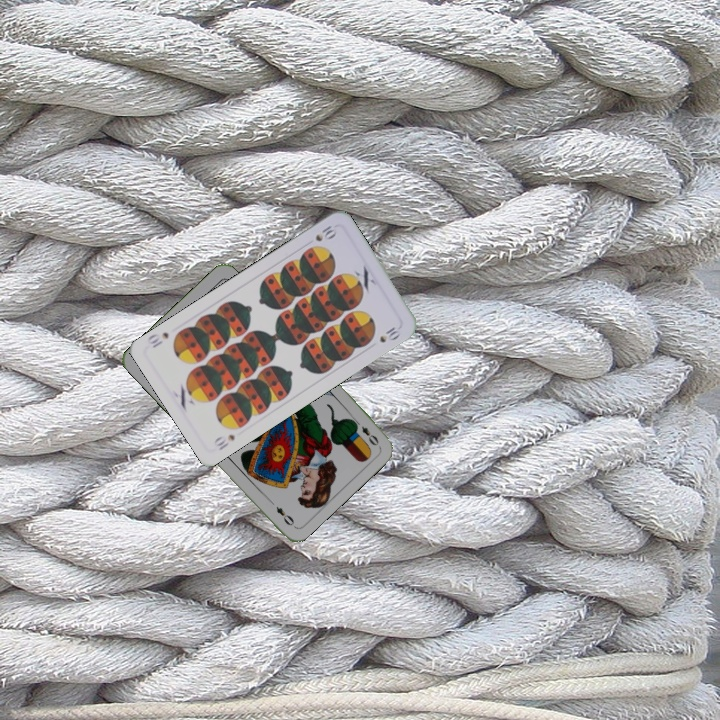EO: (349, 415, 382, 448)
S10: (311, 221, 340, 244), (210, 430, 238, 453)
